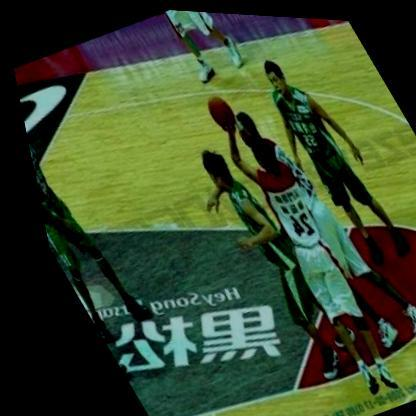basketball: (193, 86, 239, 133)
